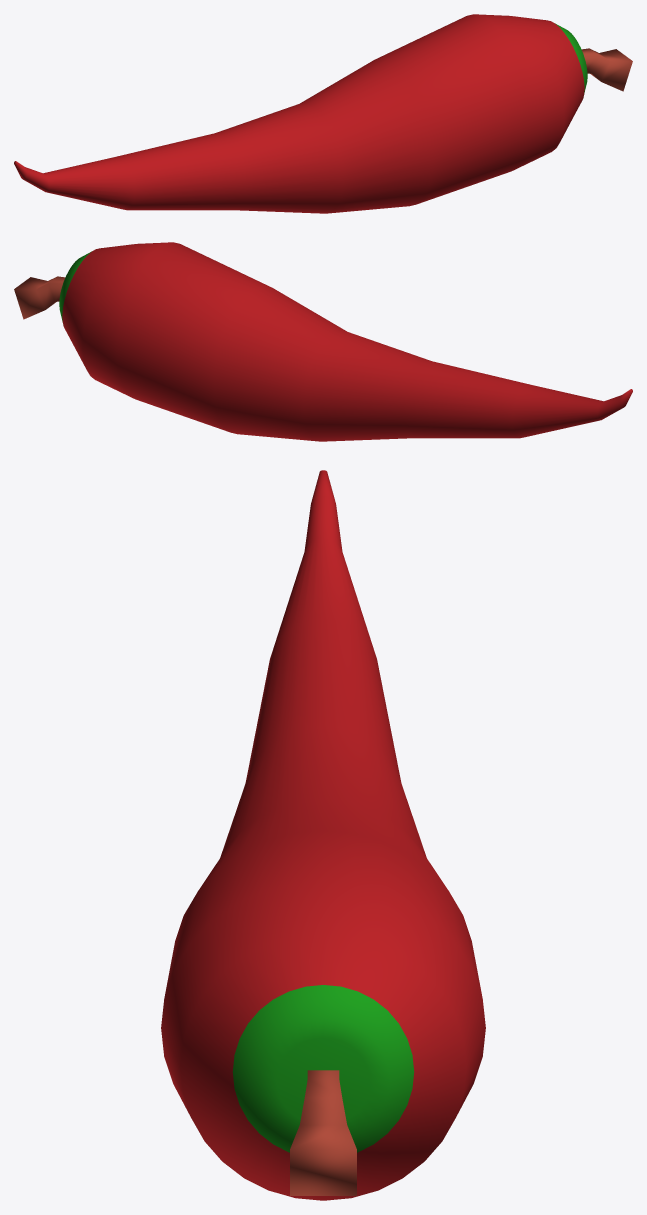
The model's file is Pimenta.gltf.
3 views of the same model, one above another, from view 1: azimuth 30°, elevation 25°; view 2: azimuth 150°, elevation 25°; view 3: azimuth 270°, elevation 25° (orthographic). The views are drawn at different scales.
Parts seen in each view (by area): view 1: Cylinder; view 2: Cylinder; view 3: Cylinder.
Part boxes in pixels (x1,y1,x2,y2): Cylinder: [14, 14, 632, 213]; Cylinder: [14, 242, 632, 441]; Cylinder: [161, 470, 485, 1200].
Bounding box in the file's own units: 0.4475 × 0.1106 × 0.1032.
